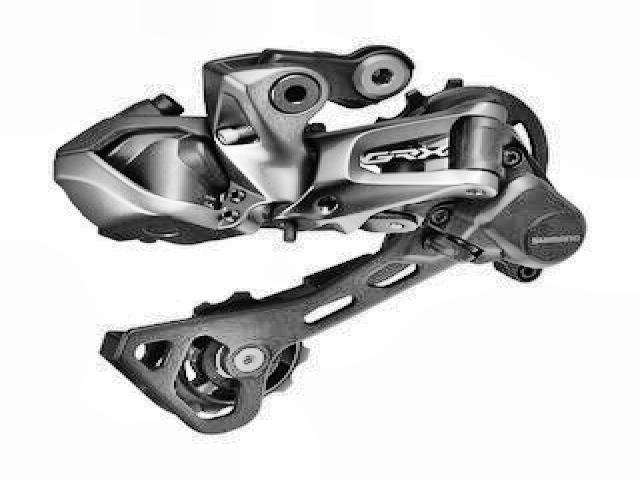rear_derailleur: (51, 42, 591, 434)
